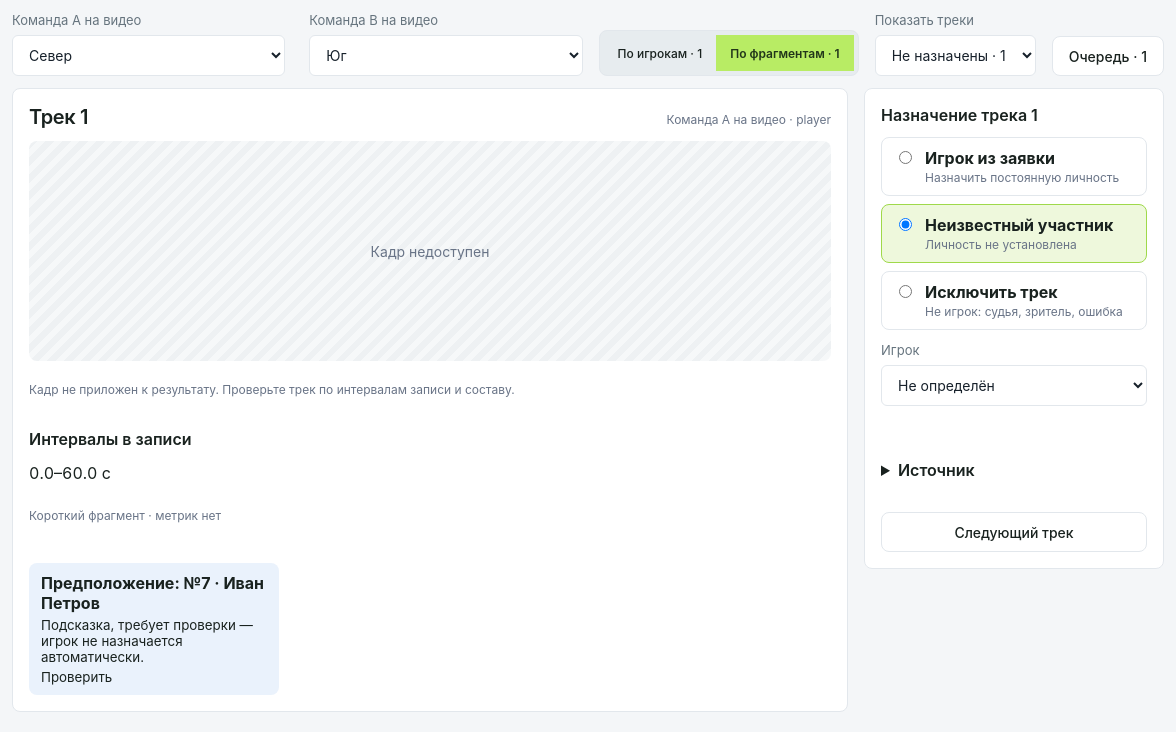
Test: never auto-selects a suggested player and hides a stale side hint
Expected: the dropdown named "Игрок фрагмента 1" shows "Не определён", [881, 365, 1147, 406]
Expected: the text "Предположение: №7 · Иван Петров" is shown, [41, 573, 267, 613]
Select "Юг" in the dropdown labelled "Команда A на видео". click: (149, 56)
box: [12, 35, 285, 76]
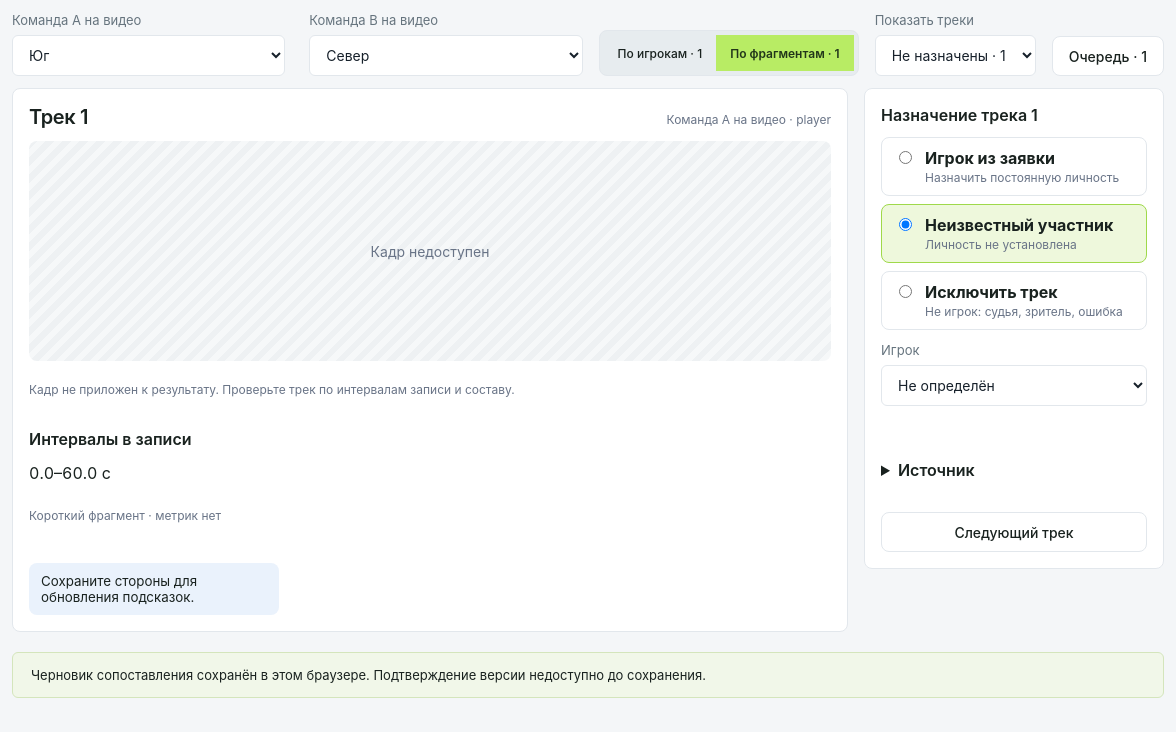
Now the text "Предположение: №7 · Иван Петров" is gone
Now the text "Сохраните стороны для обновления подсказок." is shown, box [41, 573, 197, 605]
